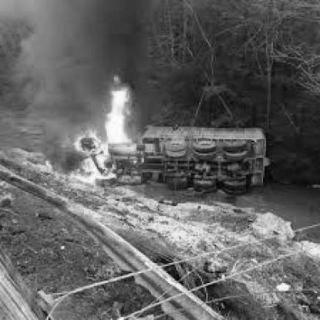Fire: (52, 129, 114, 183), (102, 74, 138, 152)
Smoke: (31, 0, 151, 74)
